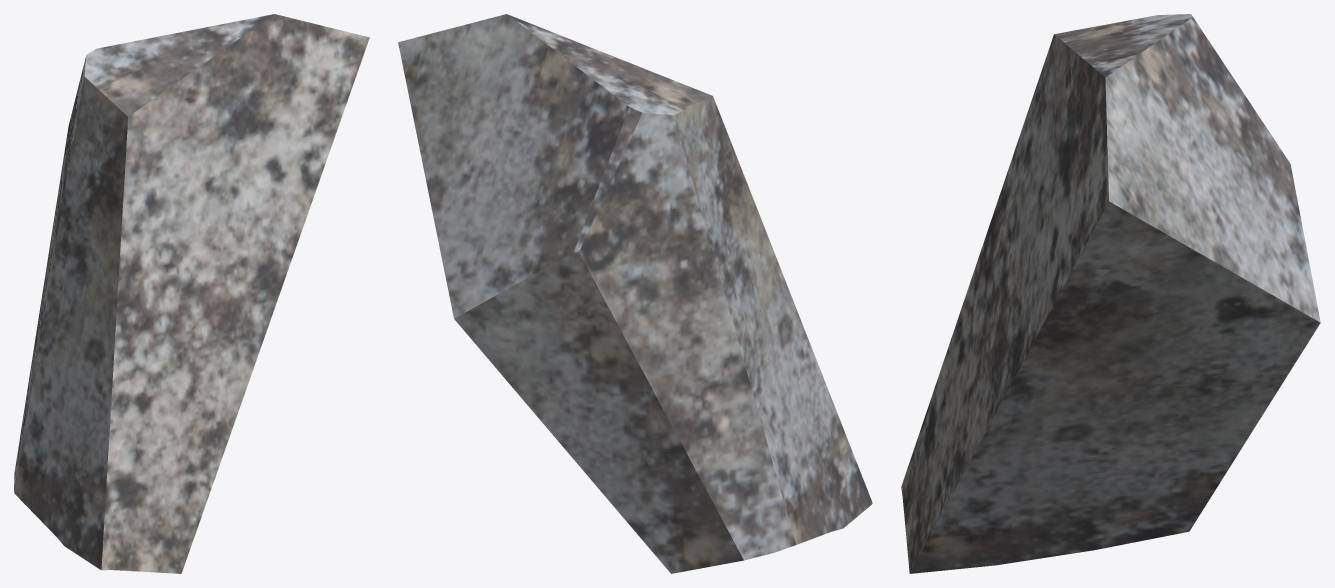
File: Asteroid_Large_001_02_012_03_023.fbx
3 renders of one model, left to right at view 1: azimuth 30°, elevation 25°; view 2: azimuth 150°, elevation 25°; view 3: azimuth 270°, elevation 25°, orthographic. The views are drawn at different scales.
Visible parts, largest first — view 1: Asteroid_Large_001_02_012_03_023; view 2: Asteroid_Large_001_02_012_03_023; view 3: Asteroid_Large_001_02_012_03_023.
Part boxes in pixels (box(x1,y1,x2,y2)): Asteroid_Large_001_02_012_03_023: box(14, 14, 369, 573); Asteroid_Large_001_02_012_03_023: box(398, 14, 872, 573); Asteroid_Large_001_02_012_03_023: box(901, 14, 1320, 573).
Size of the model in its own units: 6.31 by 7.82 by 4.93.
